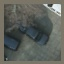car: (25, 25, 50, 45), (5, 33, 22, 52)
